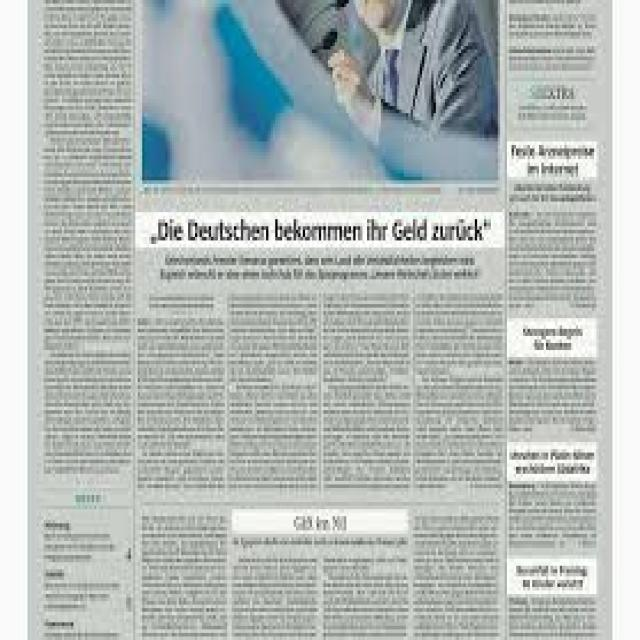paper: (29, 0, 603, 640)
